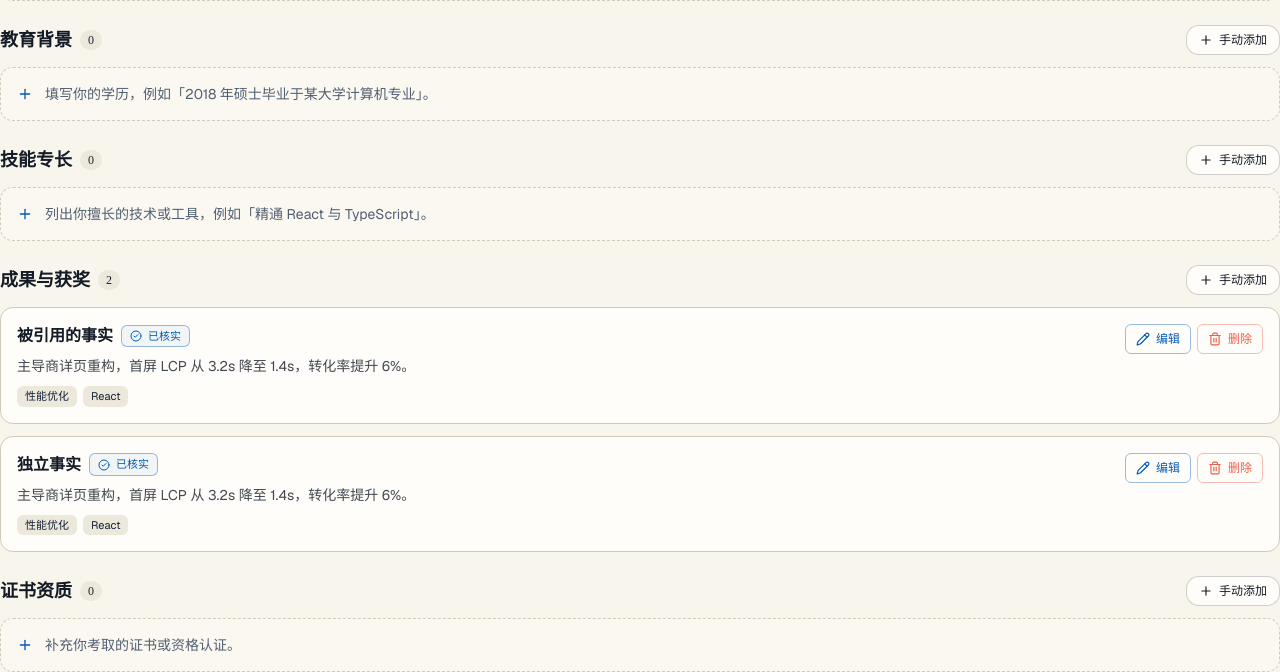
Test: Profile 事实删除入口 › 删除前弹确认并展示反向引用影响，取消不删
This screenshot has width=1280, height=672.
(page scrolled)
Click the button with aria-label "删除「被引用的事实」".
click(1230, 339)  # box [1197,324,1263,354]
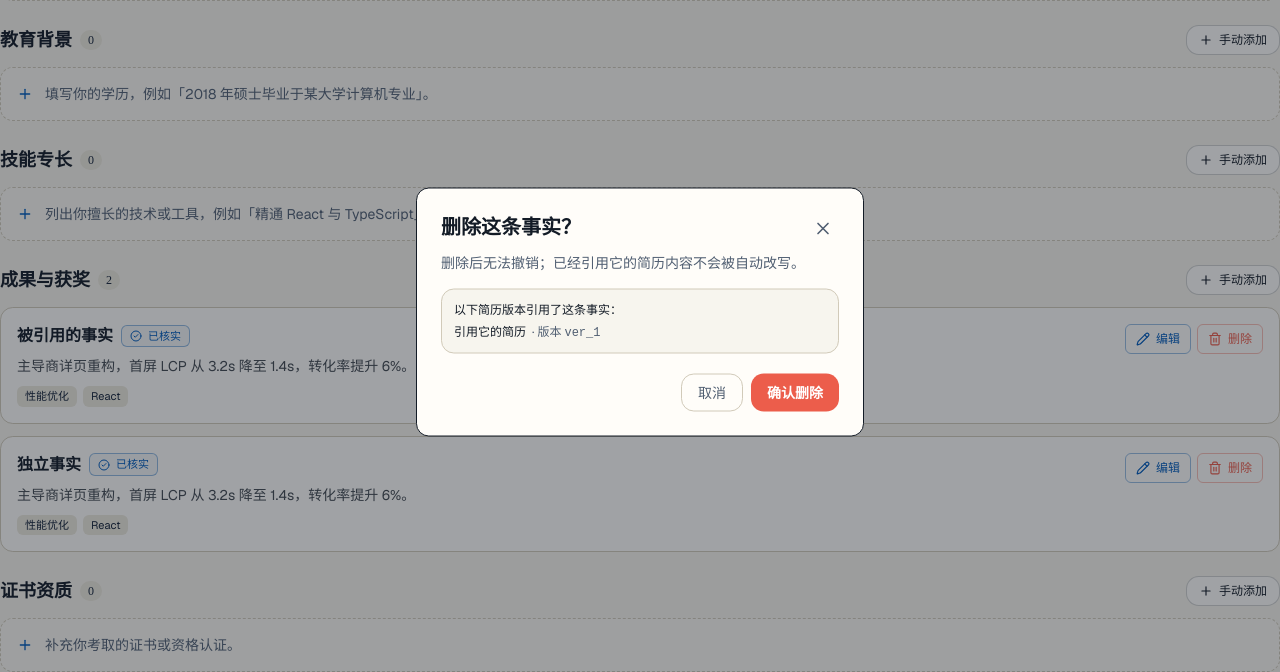
Result: the text "以下简历版本引用了这条事实：" is shown at [454,302,622,318]
Result: the text "引用它的简历" is shown at [454,324,526,340]
Click the button "取消".
click(712, 392)  # box [681,374,743,412]
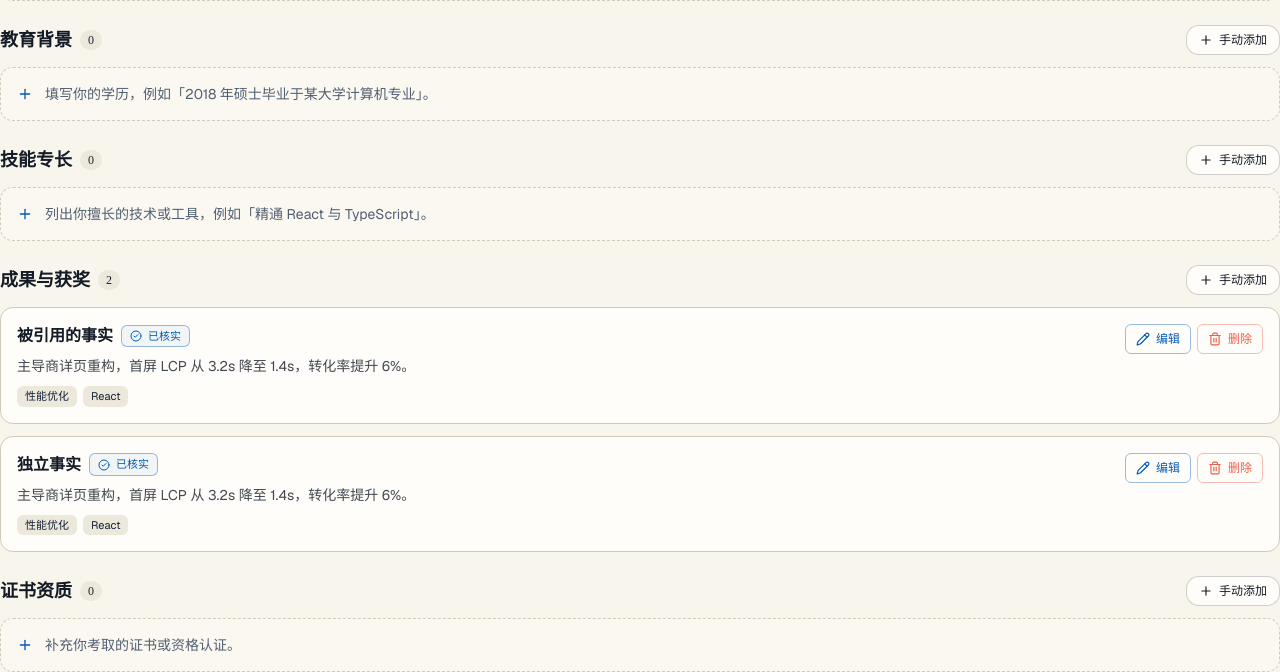
Expected: the heading "被引用的事实" is shown, [17,324,113,348]
Result: the heading "删除这条事实？" is gone
